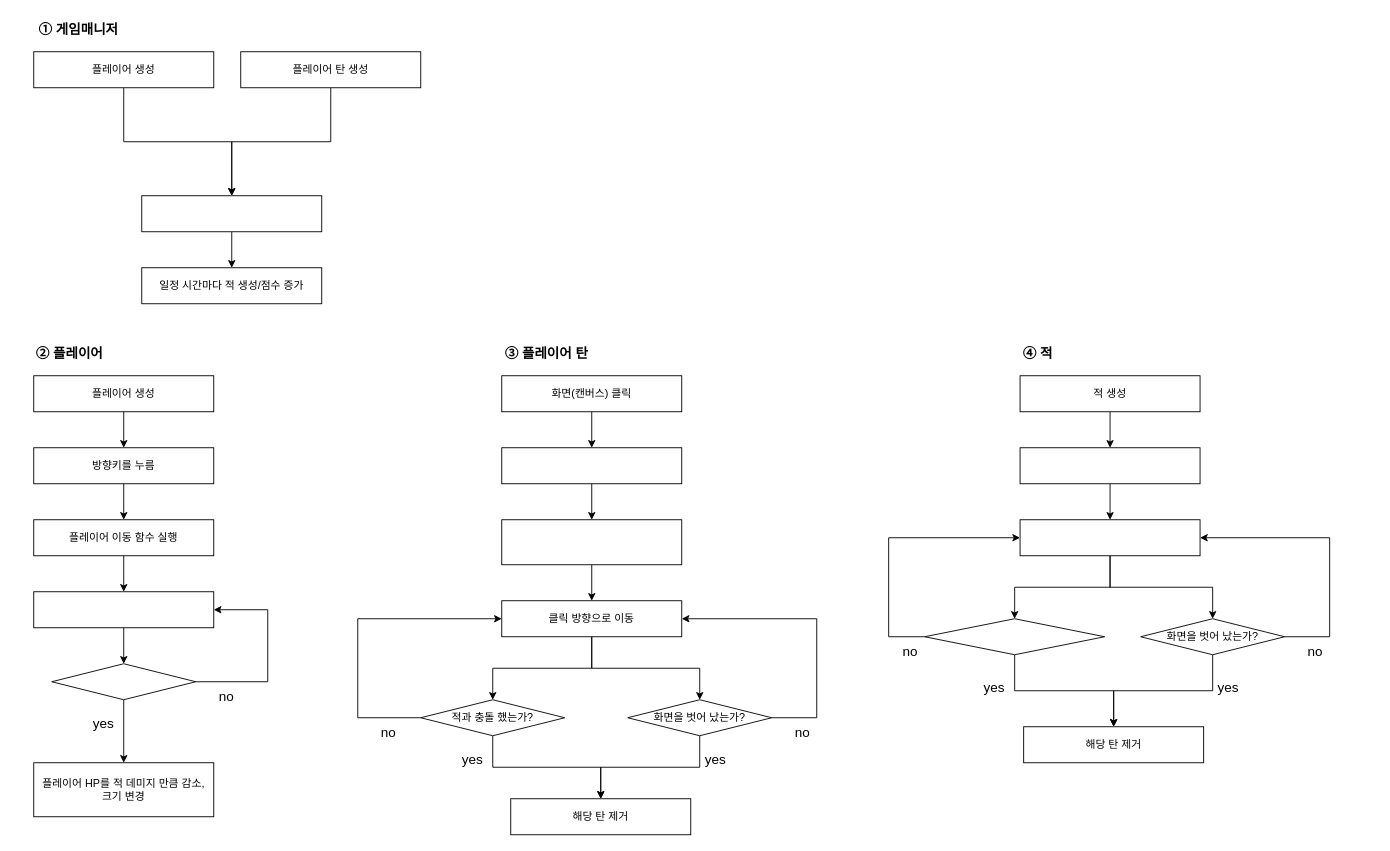
Some shapes in this 1390 by 851 pixel diagram are drawn without their labels. Each missing label, with the box of its shape:
적 이동 함수 실행: (1019, 447, 1200, 484)
적과 닿았는 가?: (51, 663, 196, 700)
타이머 실행: (141, 195, 322, 232)
탄 생성 함수 실행: (501, 447, 682, 484)
플레이어 위치를 추적해 이동: (1019, 519, 1200, 556)
플레이어 위치에 생성: (501, 519, 682, 565)
플레이어와 충돌 했는가?: (924, 618, 1105, 655)
해당 방향으로 이동: (33, 591, 214, 628)
